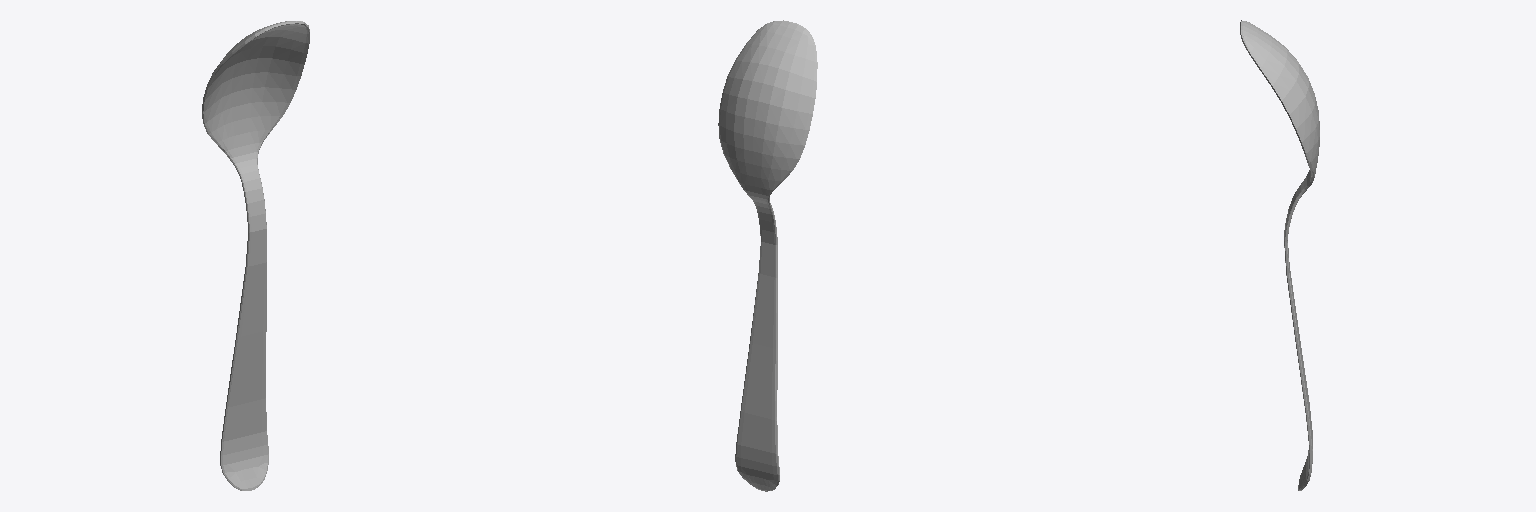
robot.urdf — spoon.urdf:
<?xml version="1.0" ?>
<robot name="spoon.urdf">
  <material name="silver">
    <color rgba=".75 .75 .75 1"/>
  </material>
  <material name="lightblue">
    <color rgba=".153 .471 .898 1"/>
  </material>
  <link name="spoon">
    <contact>
      <lateral_friction value="1.0"/>
      <rolling_friction value="0.0"/>
      <contact_cfm value="0.0"/>
      <contact_erp value="1.0"/>
    </contact>
    <inertial>
      <origin rpy="0 0 0" xyz="0.0 0.02 0.0"/>
       <mass value=".2"/>
       <inertia ixx="1" ixy="0" ixz="0" iyy="1" iyz="0" izz="1"/>
    </inertial>
    <visual>
      <origin rpy="0 0 0" xyz="0.0 0 0"/>
      <geometry>
        <mesh filename="oil_tanker.obj" scale=".1 .1 .1"/>
      </geometry>
      <material name="lightblue"/>
    </visual>
    <visual>
      <origin rpy="1.57 1.57 -1.57" xyz="0.0 0.0 0.07"/>
      <geometry>
        <mesh filename="spoon.obj" scale=".00006 .00006 .00006"/>
      </geometry>
      <material name="silver"/>
    </visual>
    <collision>
      <origin rpy="0 0 0" xyz="0.0 0 0"/>
      <geometry>
        <mesh filename="oil_tanker.obj" scale=".1 .1 .1"/>
      </geometry>
    </collision>
    <collision>
      <origin rpy="1.57 1.57 -1.57" xyz="0.0 0.0 0.07"/>
      <geometry>
        <mesh filename="spoon.obj" scale=".00006 .00006 .00006"/>
      </geometry>
    </collision>
  </link>
</robot>

--- Render facts (derived) ---
Views: 3 orthographic renders of the robot side by side, from view 1: azimuth 30°, elevation 25°; view 2: azimuth 150°, elevation 25°; view 3: azimuth 270°, elevation 25°.
Robot: spoon.urdf — 1 links, 0 joints (none); root link spoon; default pose: all joints at 0.
Visible links, largest first — view 1: spoon; view 2: spoon; view 3: spoon.
Boxes of the visible links, x1,y1,x2,y2 form: spoon: [202, 21, 309, 490]; spoon: [718, 20, 817, 491]; spoon: [1240, 20, 1319, 490].
Bounding box of the posed robot: 0.0229 × 0.017 × 0.1084 m (x, y, z).
Meshes: 2 distinct files referenced, 1 mesh visuals loaded (1 OBJ); not drawn: 1 (reference not matched to a file when rendering).